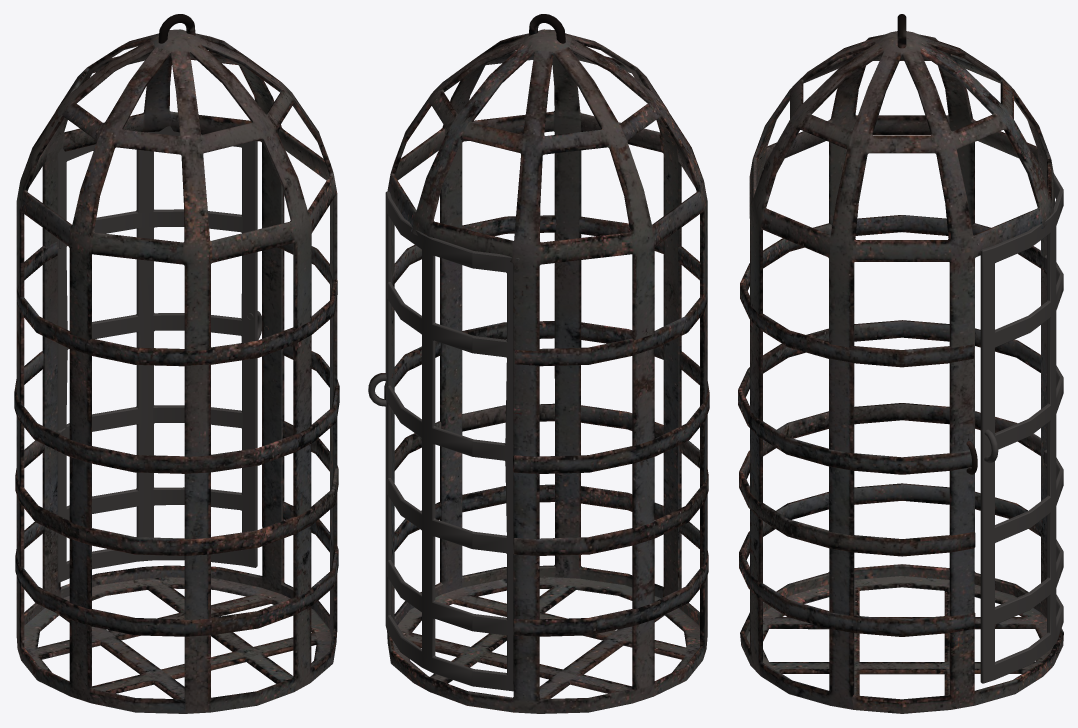
File: jaula.obj
The picture shows the model from 3 angles, left to right: view 1: azimuth 30°, elevation 25°; view 2: azimuth 150°, elevation 25°; view 3: azimuth 270°, elevation 25°; orthographic projection.
Visible parts, largest first — view 1: klatka001_meshId1_name; view 2: klatka001_meshId1_name; view 3: klatka001_meshId1_name.
Part boxes in pixels (<box>): klatka001_meshId1_name: <box>14,14,339,713</box>; klatka001_meshId1_name: <box>368,14,709,713</box>; klatka001_meshId1_name: <box>738,14,1063,713</box>.
Bounding box in the file's own units: 1.84 × 3.91 × 1.83.
Materials: 1 (1 with a texture image).
